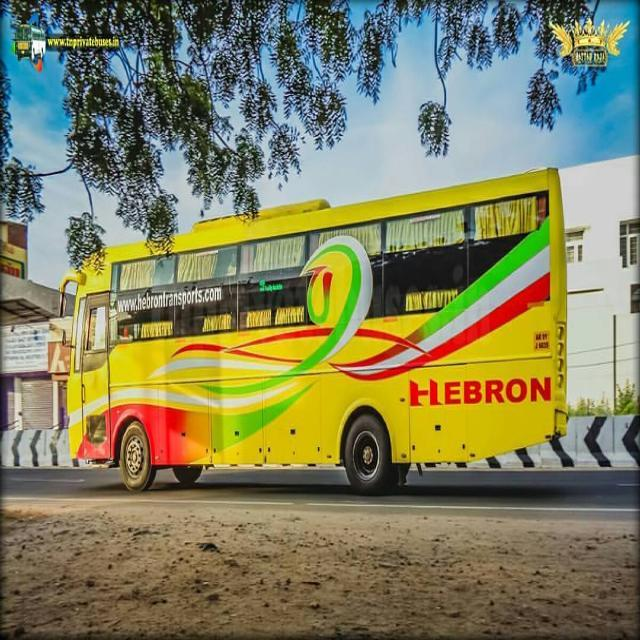Bus: (57, 163, 570, 504)
